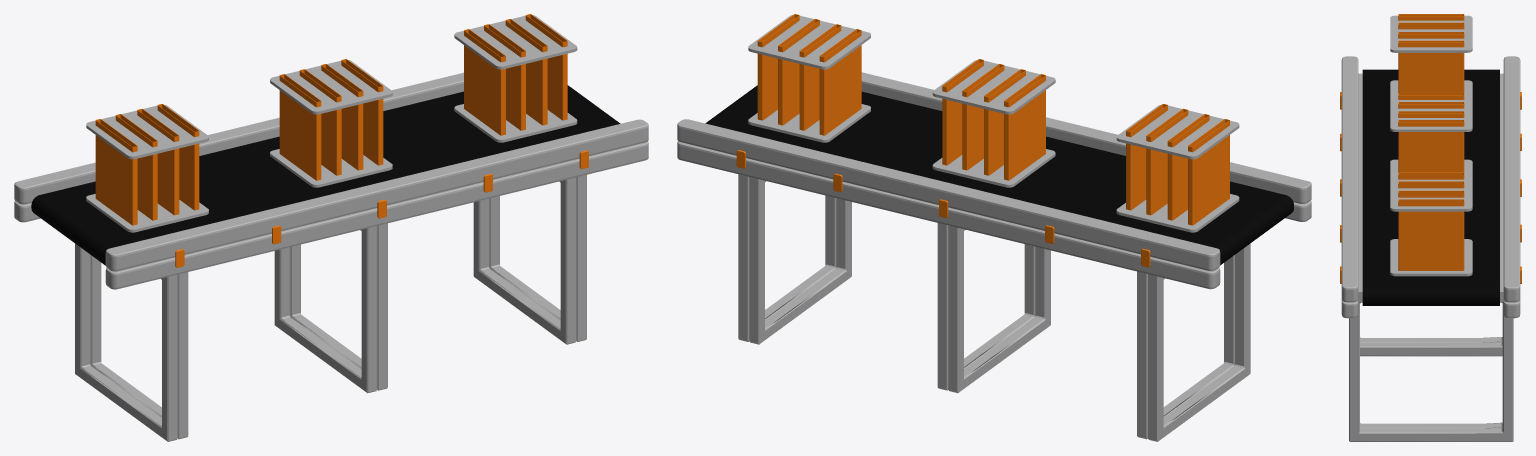
Rendered from 传送带.FBX.
The picture shows the model from 3 angles, left to right: view 1: azimuth 30°, elevation 25°; view 2: azimuth 150°, elevation 25°; view 3: azimuth 270°, elevation 25°; orthographic projection. The views are drawn at different scales.
Parts seen in each view (by area): view 1: Rectangle1675, Rectangle1672, Rectangle1674, Rectangle1681, Rectangle1679, Rectangle1677, Rectangle1663, Rectangle1680, Rectangle1676, Rectangle1678, Rectangle1697, Rectangle1691 (+16 smaller); view 2: Rectangle1675, Rectangle1663, Rectangle1664, Rectangle1681, Rectangle1679, Rectangle1677, Rectangle1672, Rectangle1680, Rectangle1678, Rectangle1676, Rectangle1685, Rectangle1691 (+16 smaller); view 3: Rectangle1675, Rectangle1676, Rectangle1682, Rectangle1663, Rectangle1672, Rectangle1694, Rectangle1688, Rectangle1678, Rectangle1673, Rectangle1671, Rectangle1693, Rectangle1687 (+16 smaller).
Boxes of the visible parts, x1,y1,x2,y2 form: Rectangle1675: (31,85,620,265); Rectangle1672: (105,119,648,271); Rectangle1674: (105,141,648,289); Rectangle1681: (75,243,177,441); Rectangle1679: (274,226,377,393); Rectangle1677: (473,177,576,344); Rectangle1663: (14,72,463,204); Rectangle1680: (90,255,188,439); Rectangle1676: (489,175,586,341); Rectangle1678: (290,223,387,390); Rectangle1697: (95,119,137,225); Rectangle1691: (279,74,321,180); Rectangle1675: (705,85,1293,265); Rectangle1663: (677,119,1220,271); Rectangle1664: (677,141,1220,289); Rectangle1681: (1148,243,1250,441); Rectangle1679: (948,225,1050,393); Rectangle1677: (749,177,851,344); Rectangle1672: (861,72,1311,203); Rectangle1680: (1137,255,1234,439); Rectangle1678: (937,223,1035,390); Rectangle1676: (738,174,836,341); Rectangle1685: (819,29,861,135); Rectangle1691: (1004,74,1045,180); Rectangle1675: (1362,69,1499,305); Rectangle1676: (1349,302,1513,441); Rectangle1682: (1398,199,1464,270); Rectangle1663: (1503,56,1520,302); Rectangle1672: (1341,56,1358,302); Rectangle1694: (1398,40,1464,93); Rectangle1688: (1398,120,1464,172); Rectangle1678: (1360,341,1502,356); Rectangle1673: (1358,73,1503,301); Rectangle1671: (1390,174,1472,211); Rectangle1693: (1390,15,1472,52); Rectangle1687: (1390,95,1472,131).
Bounding box in the file's own units: 68.9 × 33.83 × 22.81.
